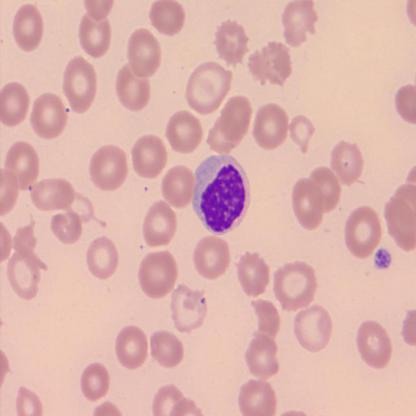Metamyelocyte: (190, 149, 253, 239)
